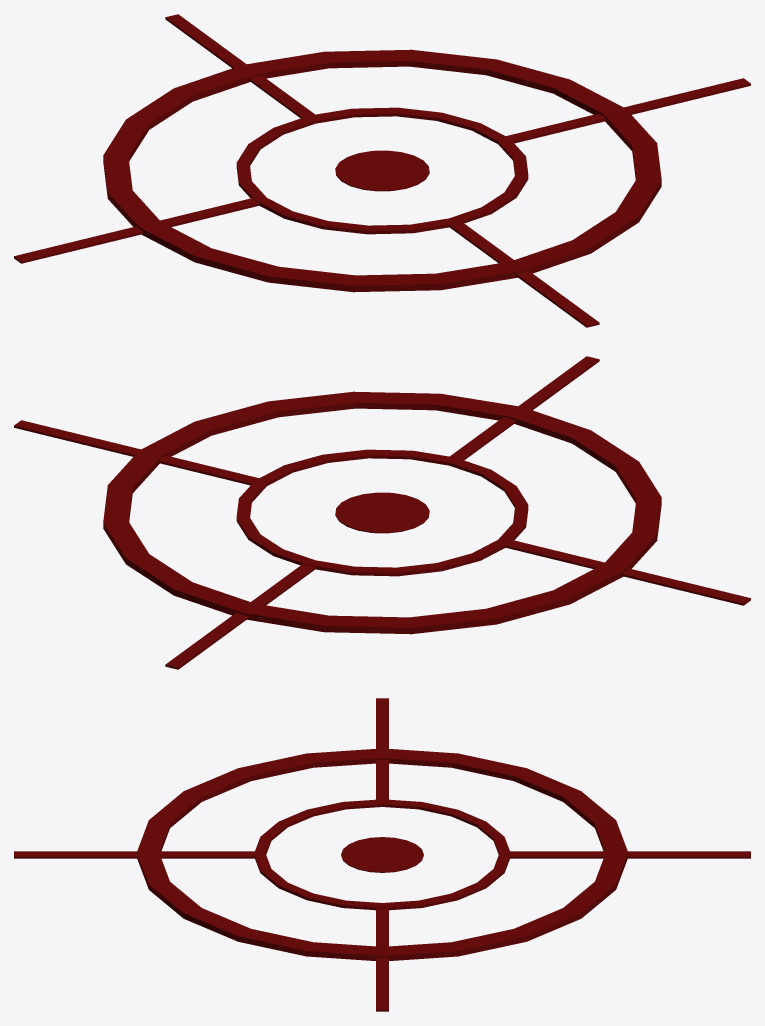
File: CrossHair_3D.fbx
3 views of the same model, one above another, from view 1: azimuth 30°, elevation 25°; view 2: azimuth 150°, elevation 25°; view 3: azimuth 270°, elevation 25° (orthographic). The views are drawn at different scales.
Parts seen in each view (by area): view 1: pCylinder1, pCylinder2, pCube1, pCube2, pCube3, pCube4; view 2: pCylinder1, pCylinder2, pCube1, pCube2, pCube4, pCube3; view 3: pCylinder1, pCylinder2, pCube3, pCube4, pCube2, pCube1.
Boxes of the visible parts, x1,y1,x2,y2 form: pCylinder1: [103, 49, 661, 292]; pCylinder2: [236, 107, 528, 234]; pCube1: [14, 198, 259, 263]; pCube2: [506, 78, 750, 143]; pCube3: [449, 221, 599, 327]; pCube4: [165, 14, 314, 118]; pCylinder1: [103, 391, 661, 634]; pCylinder2: [236, 449, 528, 576]; pCube1: [505, 540, 750, 605]; pCube2: [14, 420, 258, 485]; pCube4: [165, 563, 315, 669]; pCube3: [450, 356, 599, 460]; pCylinder1: [136, 748, 628, 960]; pCylinder2: [254, 799, 510, 910]; pCube3: [14, 851, 254, 858]; pCube4: [510, 851, 750, 858]; pCube2: [376, 908, 388, 1011]; pCube1: [376, 698, 388, 799].
Bounding box in the file's own units: 3 × 0.0249 × 3.
